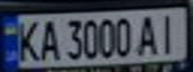0: (115, 14, 136, 58), (81, 16, 100, 61), (100, 15, 118, 60)
3: (63, 16, 84, 61)
A: (136, 11, 163, 56), (36, 17, 60, 62)
I: (154, 10, 184, 55)
K: (12, 17, 42, 63)
